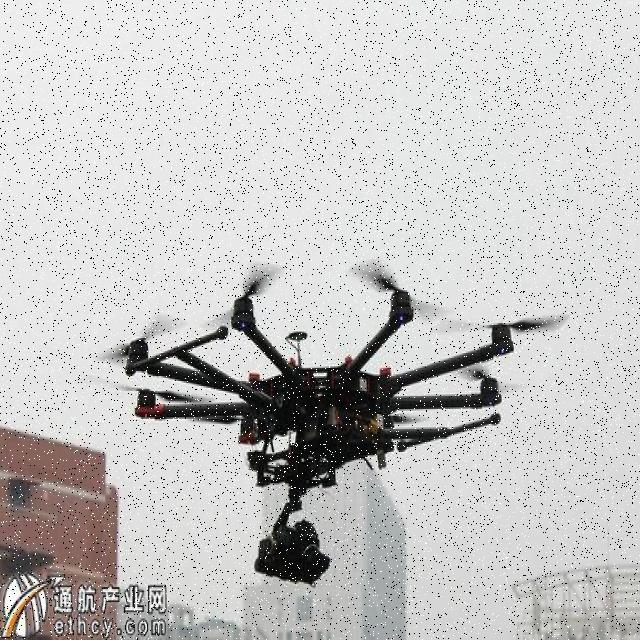UAV: (132, 262, 508, 587)
